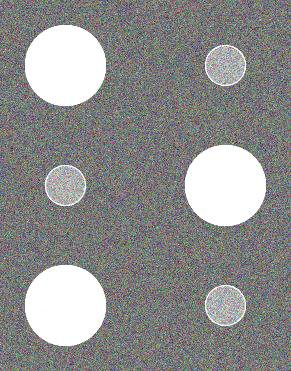O: (17, 19, 273, 349)
